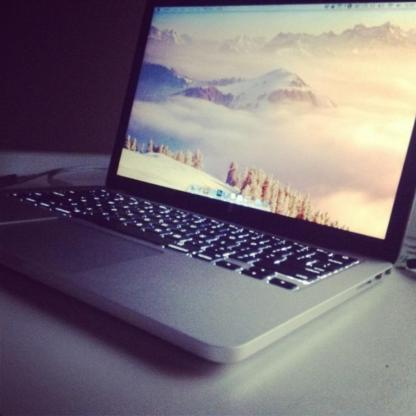board: (2, 7, 413, 387)
